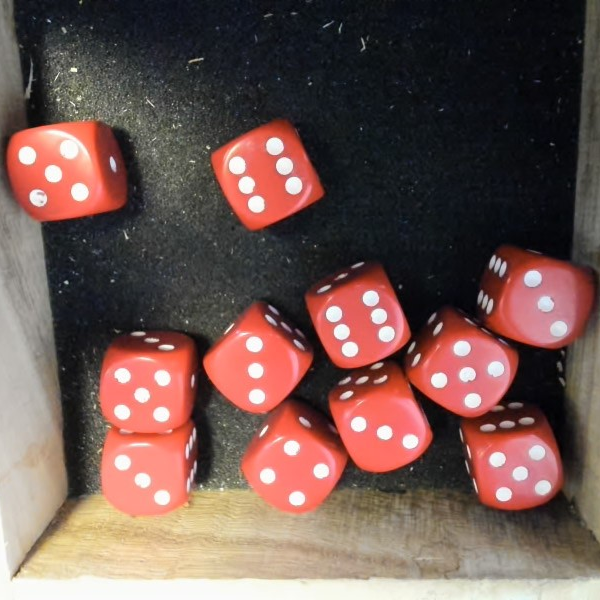red_die_pip3: (193, 288, 331, 428), (320, 357, 438, 482), (475, 239, 599, 356), (100, 436, 198, 517)
red_die_pip4: (224, 398, 361, 535)
red_die_pip5: (394, 293, 533, 431), (6, 114, 132, 227), (458, 397, 562, 511), (100, 327, 190, 436)
red_die_pip6: (201, 110, 329, 238), (298, 260, 413, 380)
